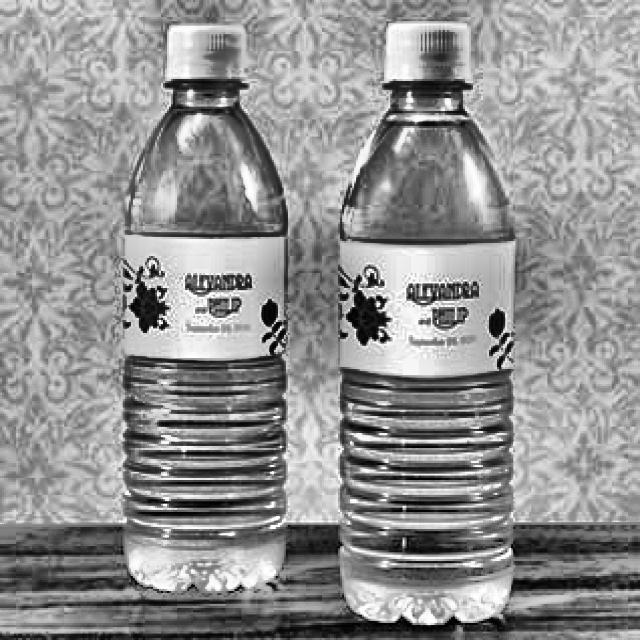waterbottle: (321, 8, 525, 640), (116, 12, 299, 607)
